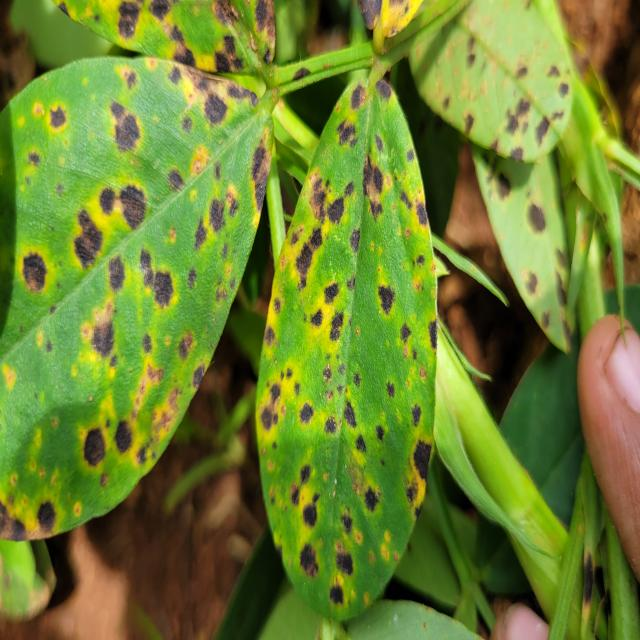Ground nut_tikka leaf spot: (253, 59, 439, 618)
